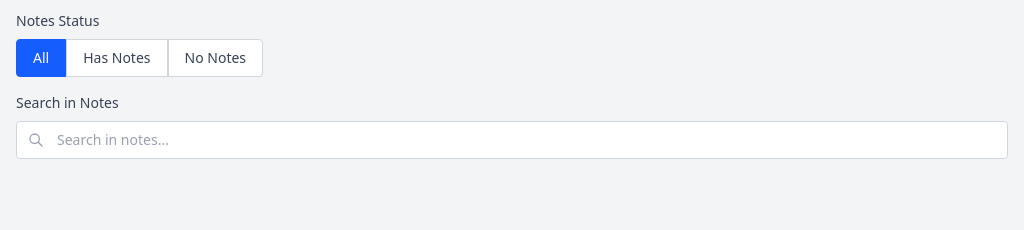
it: NotesFilter › Keyword Search › shows clear button when text is entered
Type "test" into the field with placeholder "Search in notes..." at (512, 140), box [16, 121, 1008, 159]
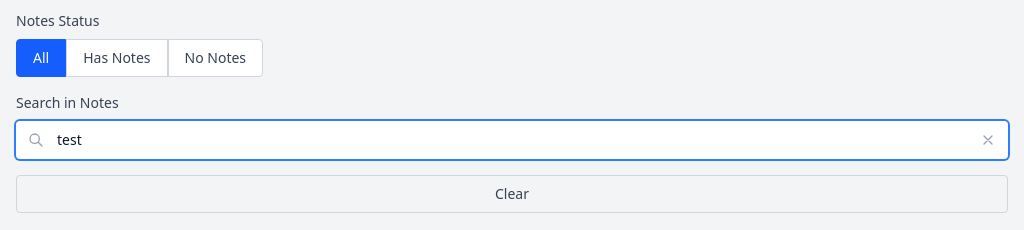
Expected: the button named "clear search" is shown, [980, 121, 1008, 159]
